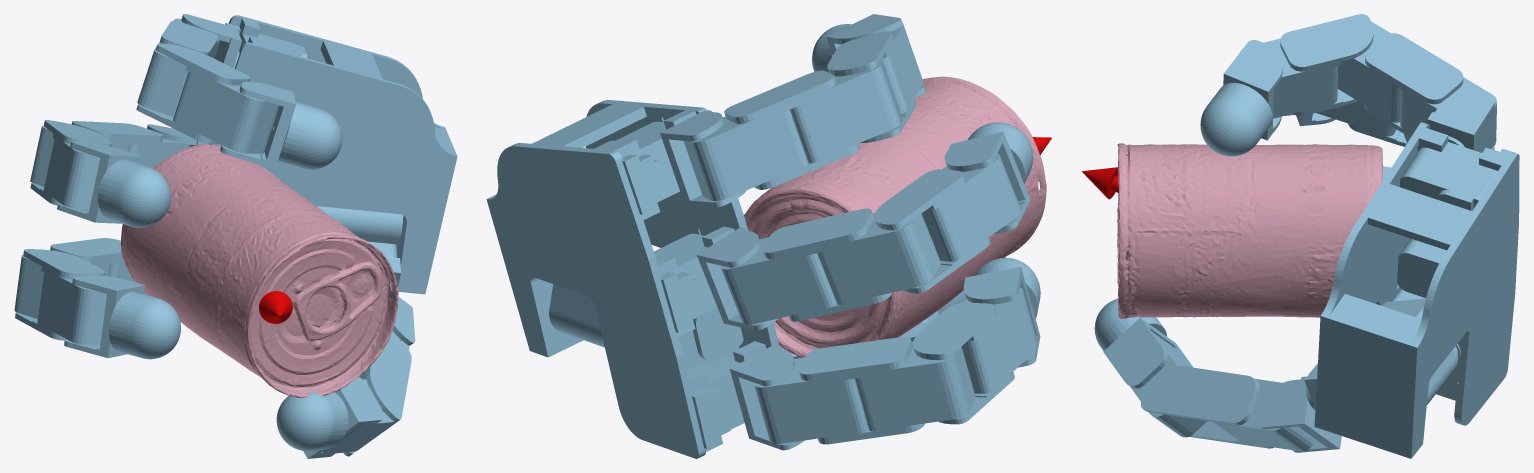
3 views of the same model, side by side, from view 1: azimuth 30°, elevation 25°; view 2: azimuth 150°, elevation 25°; view 3: azimuth 270°, elevation 25° (orthographic). The views are drawn at different scales.
Visible parts, largest first — view 1: world, tomato_soup_can.stl; view 2: world, tomato_soup_can.stl; view 3: world, tomato_soup_can.stl.
Boxes of the visible parts, x1,y1,x2,y2 form: world: (14,14,457,458); tomato_soup_can.stl: (121,144,398,397); world: (486,14,1051,458); tomato_soup_can.stl: (744,76,1046,357); world: (1082,14,1519,458); tomato_soup_can.stl: (1117,143,1382,319).
Size of the model in its own units: 0.1925 by 0.1571 by 0.1679.
